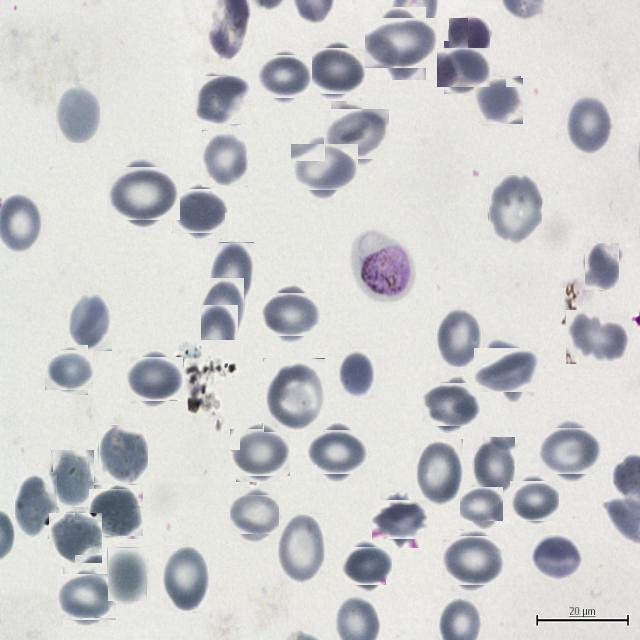gametocyte: (350, 230, 413, 300)
red blood cell: (263, 358, 325, 432), (111, 162, 176, 226), (370, 12, 432, 74), (488, 174, 542, 244), (276, 513, 326, 584), (566, 310, 630, 364), (327, 105, 385, 163), (207, 242, 254, 313), (296, 138, 353, 195), (415, 439, 463, 506), (162, 544, 209, 611), (444, 532, 500, 588), (478, 342, 534, 398), (98, 424, 148, 484), (543, 424, 598, 478), (308, 44, 362, 98), (233, 425, 287, 479), (435, 306, 482, 368), (59, 570, 112, 624), (566, 94, 612, 156), (196, 73, 249, 126), (200, 277, 244, 340), (311, 426, 364, 478), (15, 475, 58, 539), (265, 288, 317, 340), (49, 512, 101, 564), (90, 487, 142, 538), (202, 130, 248, 187), (426, 378, 477, 429), (128, 354, 180, 404), (56, 84, 100, 143), (472, 436, 515, 496), (68, 293, 112, 351), (50, 449, 94, 507), (175, 186, 225, 236), (260, 52, 309, 102), (531, 534, 582, 581), (376, 496, 424, 544), (474, 77, 522, 125), (440, 44, 488, 90), (107, 547, 147, 601), (344, 544, 390, 588), (512, 478, 556, 524), (46, 348, 90, 393), (233, 492, 277, 536), (339, 349, 377, 399), (448, 18, 490, 60), (584, 242, 619, 290), (462, 484, 501, 524)
